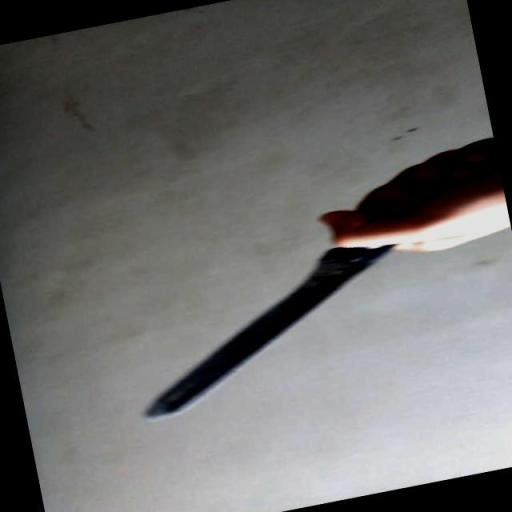knife: (102, 137, 512, 423)
